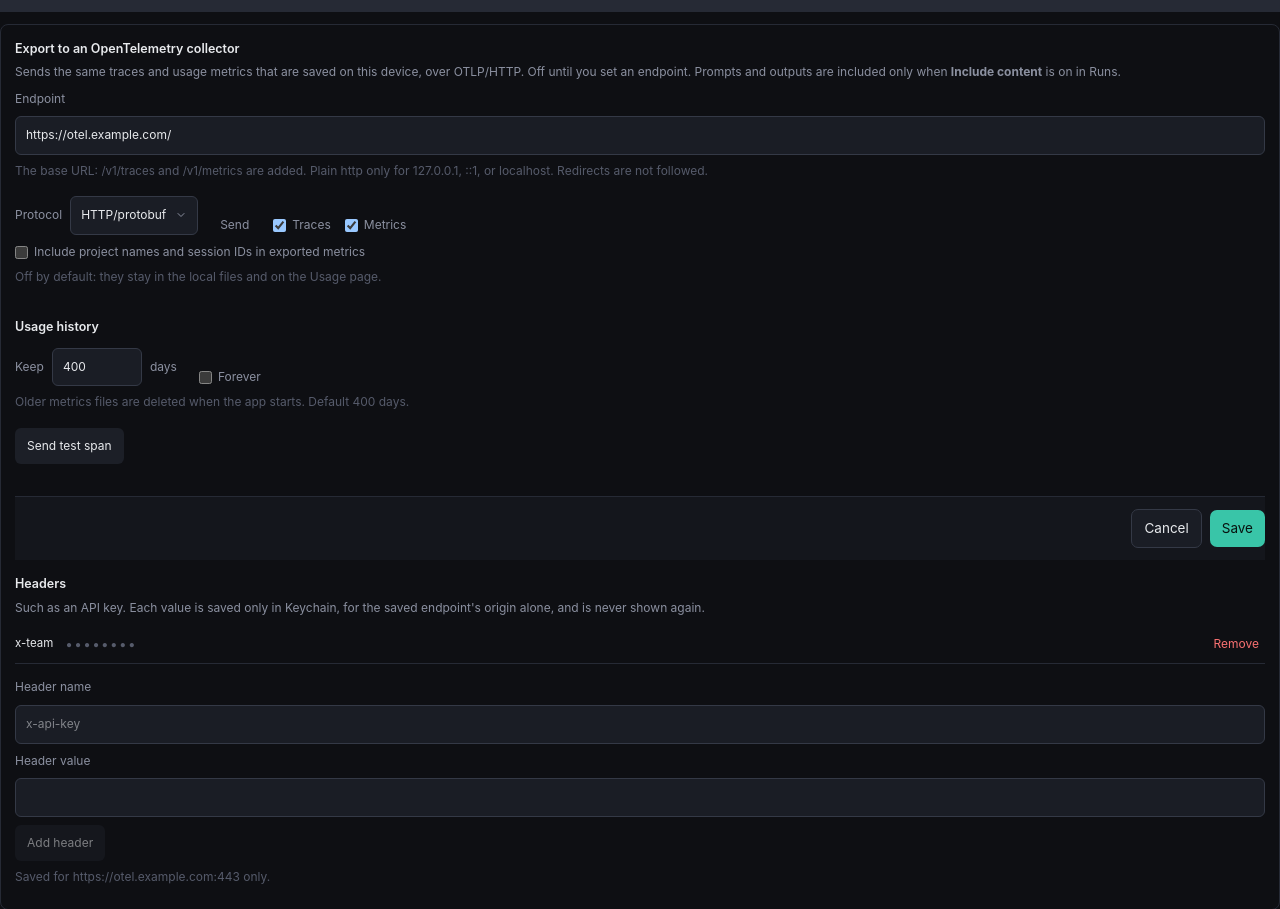
Test: telemetry settings › stores a header value once, for the saved origin, and lists only masked names
The image size is (1280, 909).
Check: the text "x-team" is shown, box x1=15 y1=635 x2=53 y2=653
In the field labelled "Header name": [640, 724] box x1=15 y1=705 x2=1265 y2=744, type "X-Api-Key"
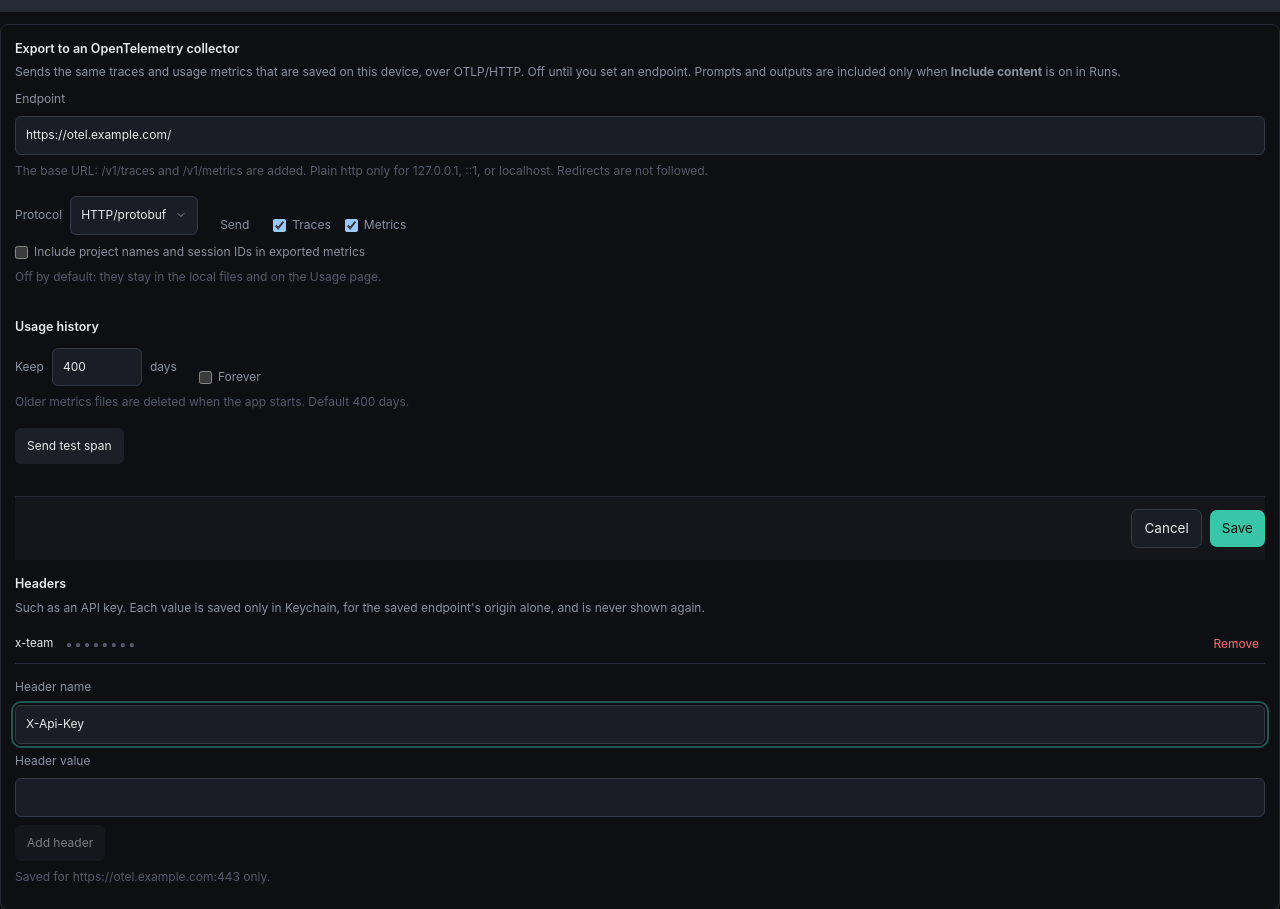
In the password field labelled "Header value": [640, 797] box x1=15 y1=778 x2=1265 y2=817, type "very-secret-value"
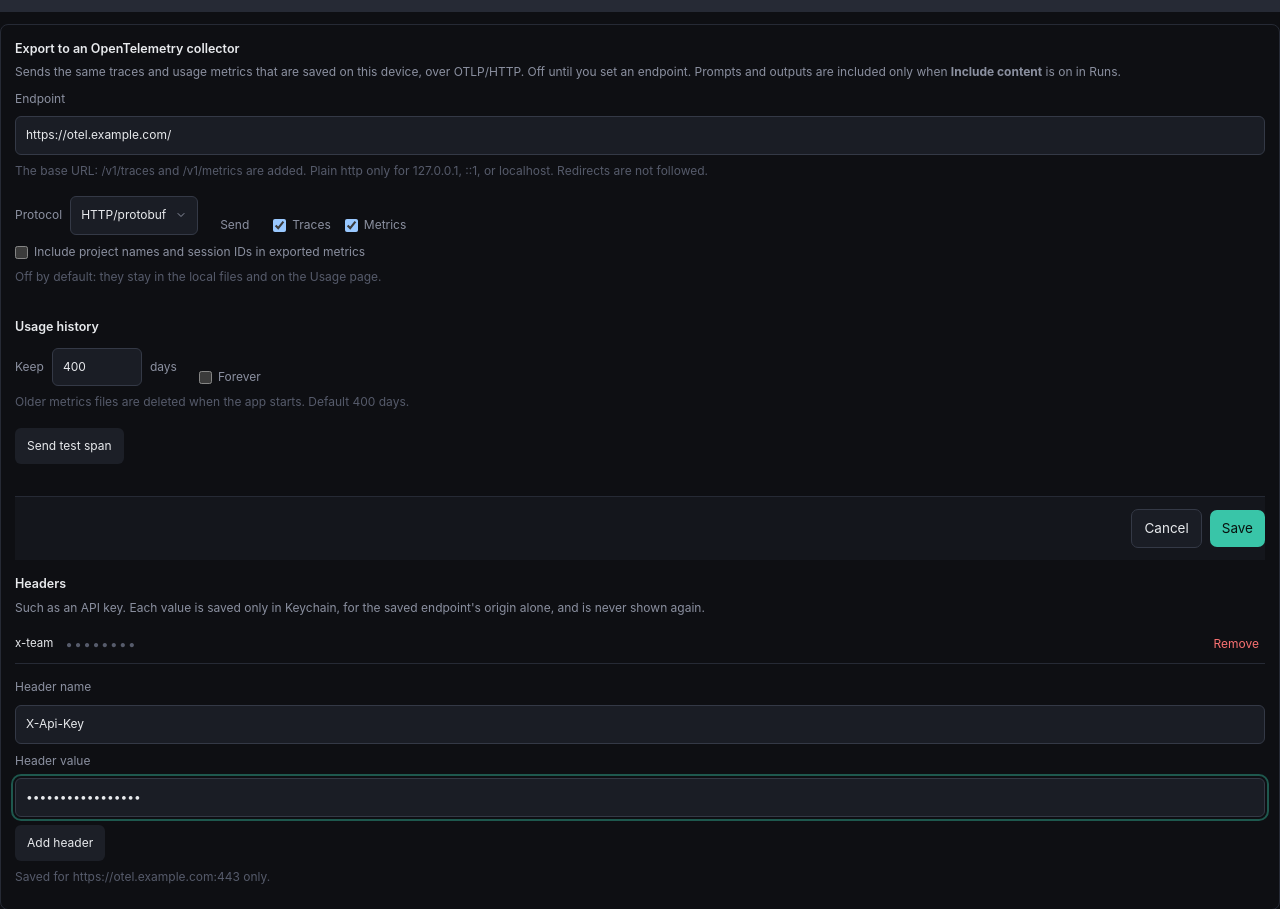
Click the button "Add header": [60, 843] box x1=15 y1=825 x2=105 y2=861
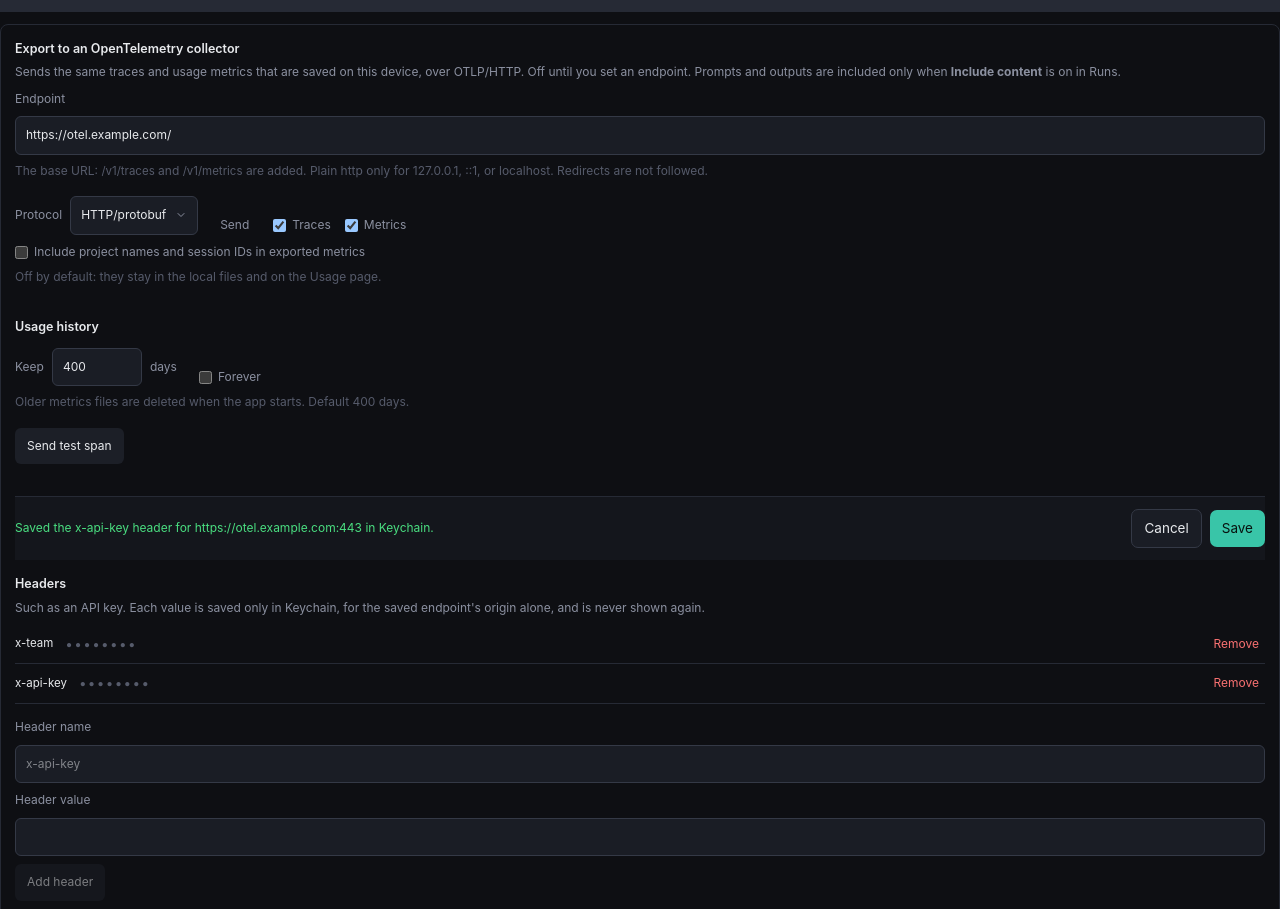
Check: the text "x-api-key" is shown, box x1=15 y1=675 x2=67 y2=692
Check: the password field labelled "Header value" is empty, box x1=15 y1=818 x2=1265 y2=856
Click the button with aria-label "Remove x-team": [1236, 644] box x1=1208 y1=631 x2=1265 y2=657
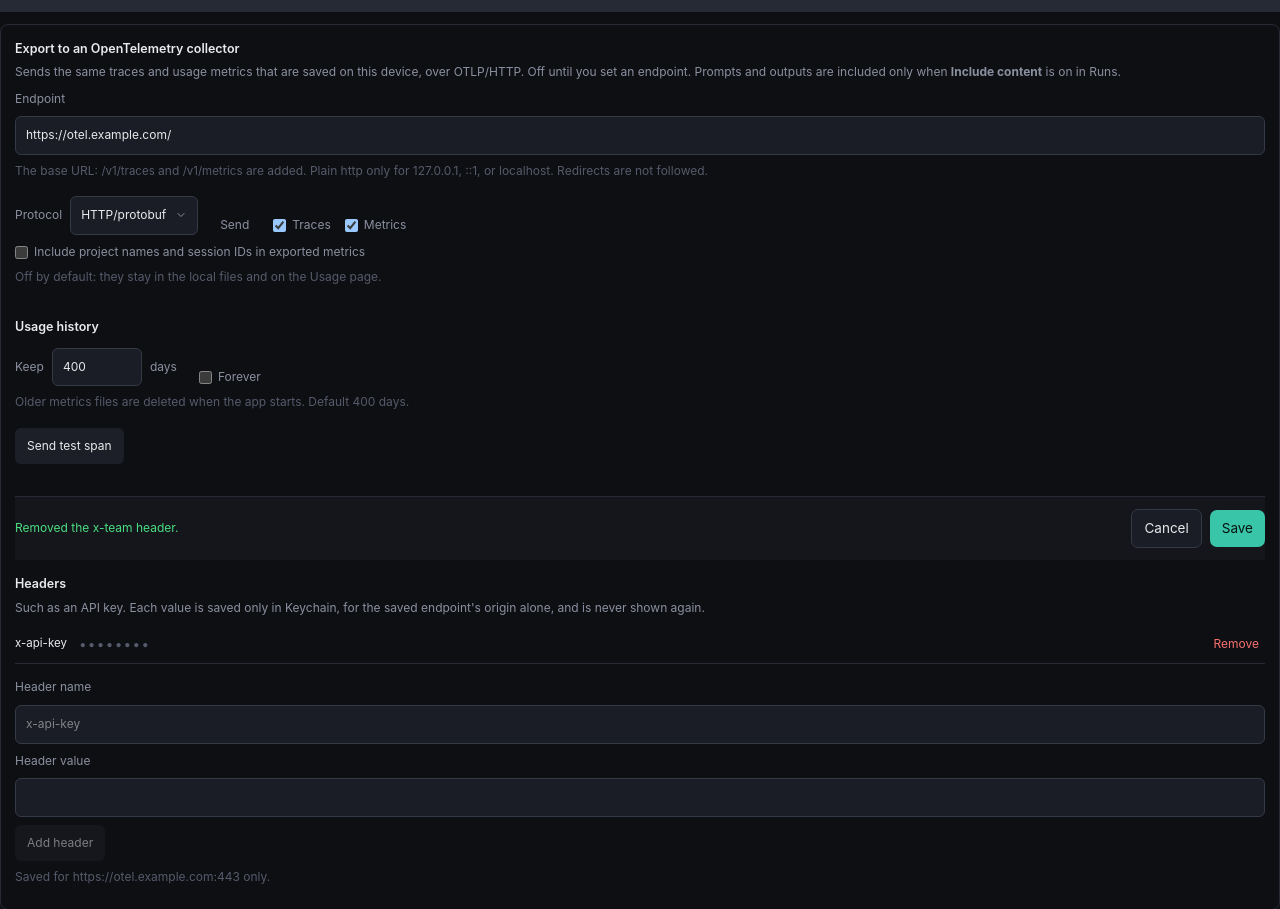
Note: Editing the endpoint blocks new headers until it is saved.
In the field labelled "Endpoint": [640, 136] box x1=15 y1=116 x2=1265 y2=155, type "x"
(page scrolled)
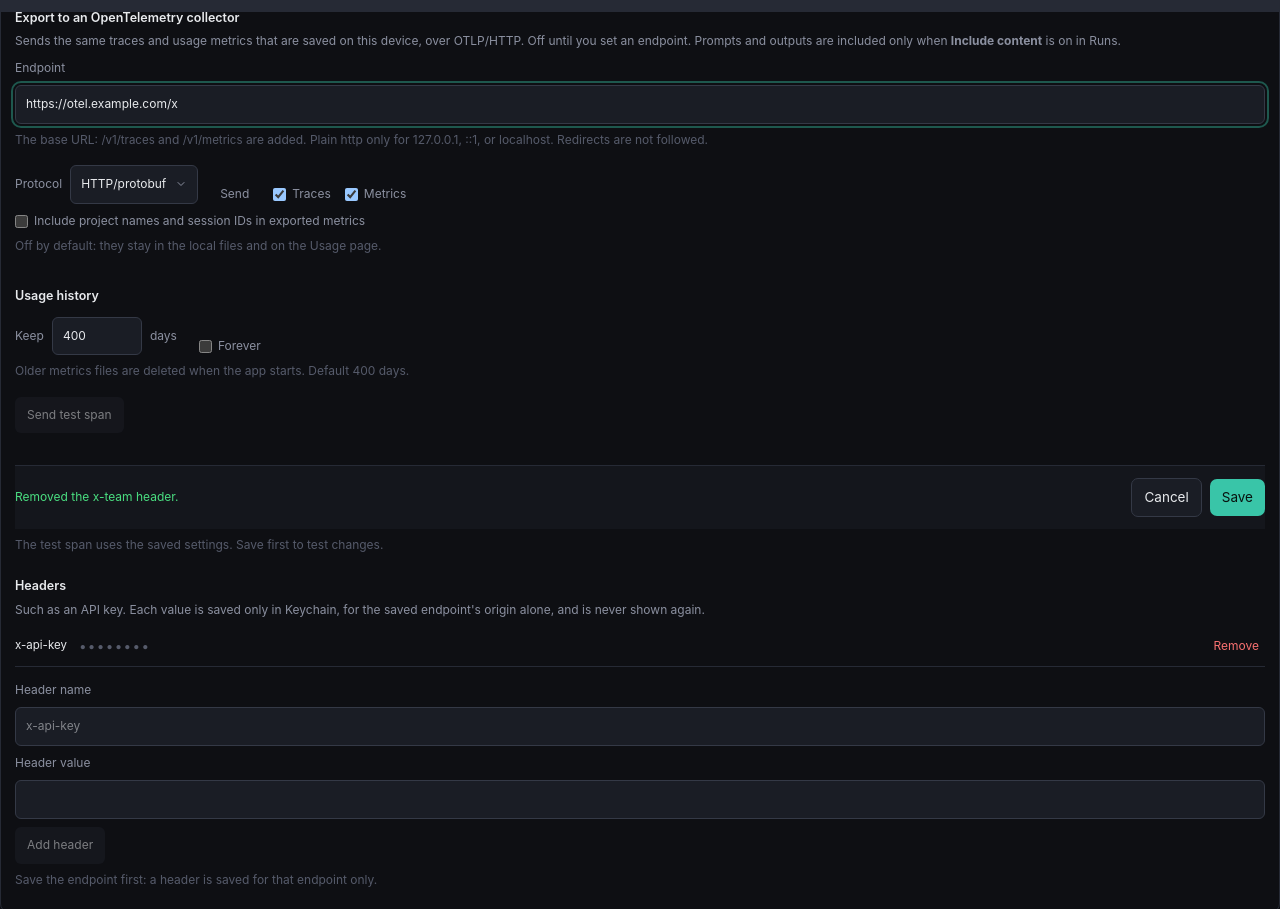
Check: the password field labelled "Header value" is disabled, box x1=15 y1=780 x2=1265 y2=819
Check: the text "Save the endpoint first" is shown, box x1=15 y1=872 x2=377 y2=886
